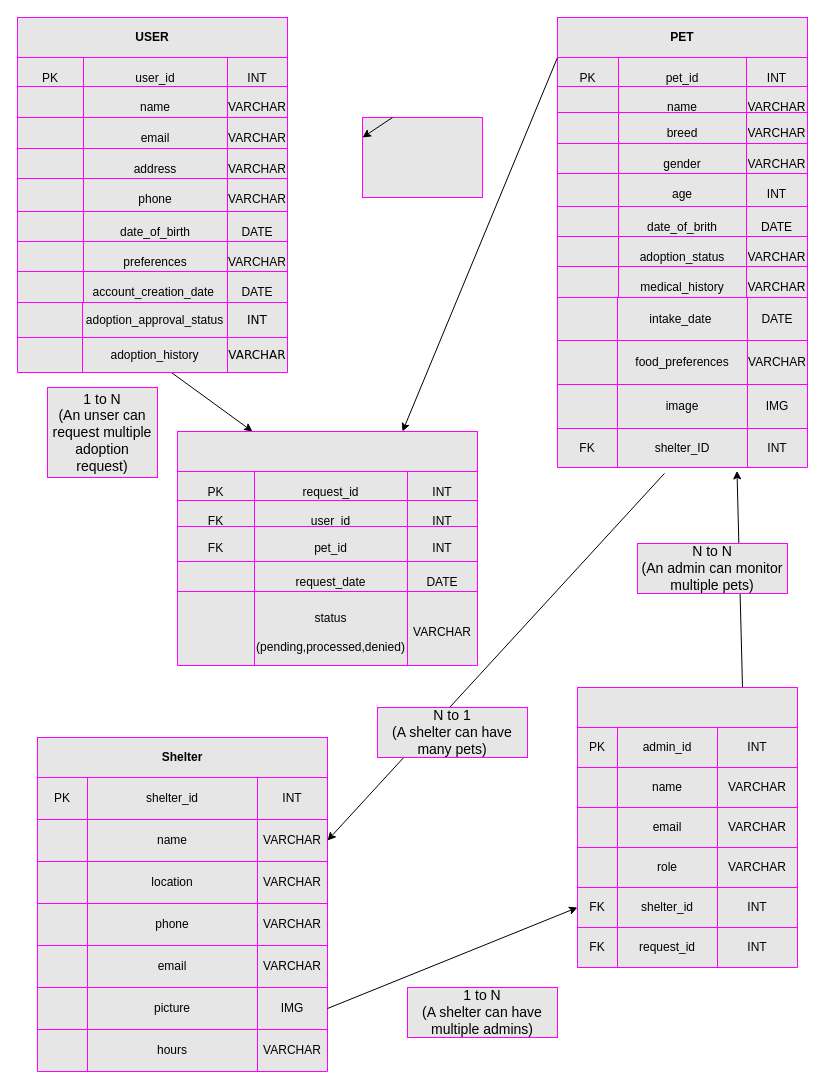
This 825x1089 diagram has some shape labels left out. Each missing label, with the centre of its shape:
"1 to N (A dog can have multiple adoption request)" goes at (422,157).
"Administration" goes at (687,707).
"ADOPTION REQUEST" goes at (327,451).
